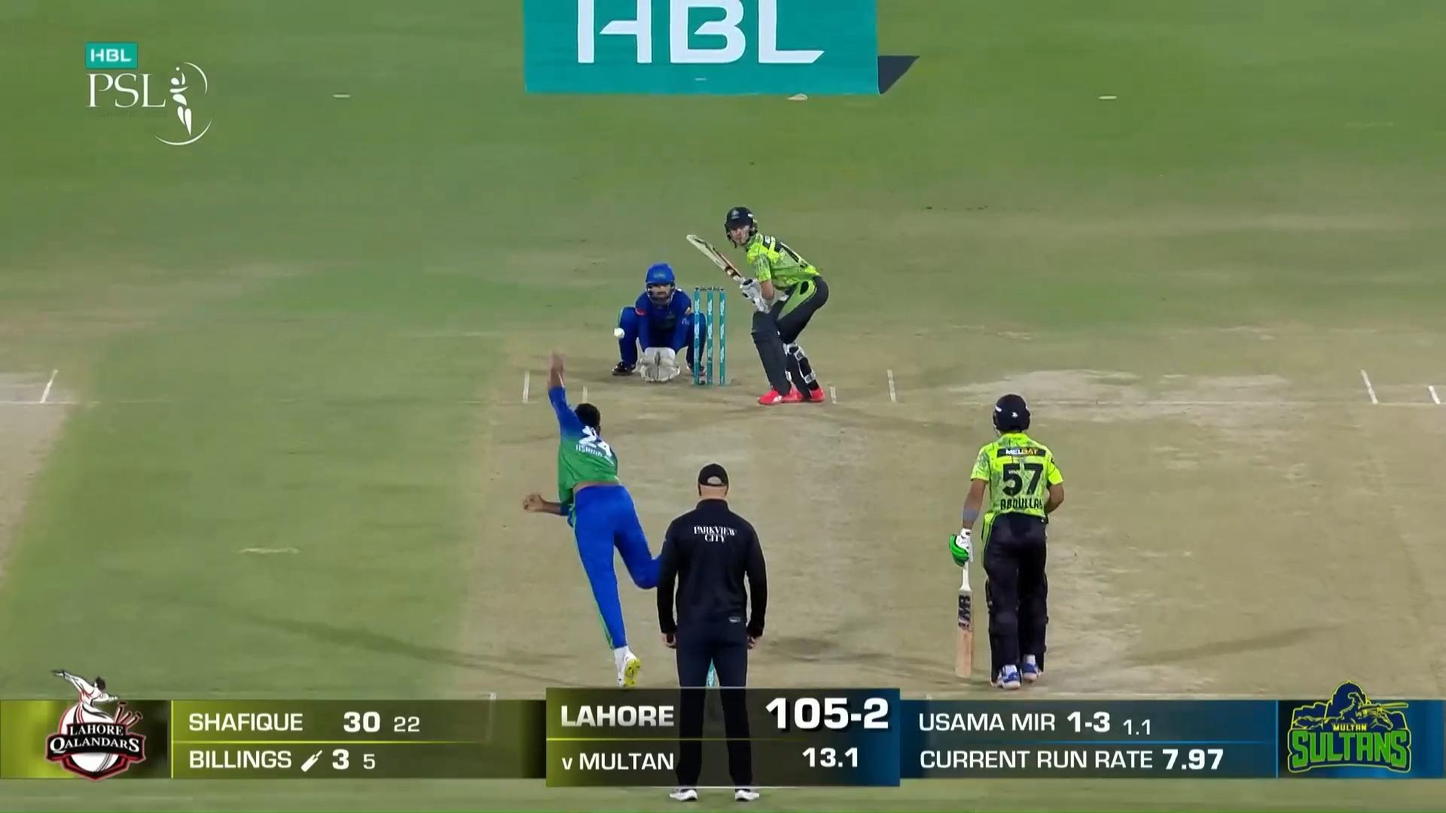batsman: (686, 206, 829, 406)
